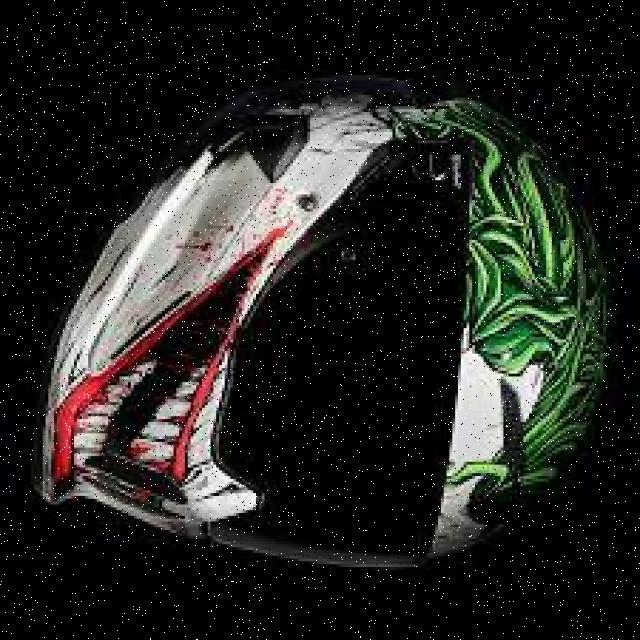Helmet: (16, 65, 612, 603)
